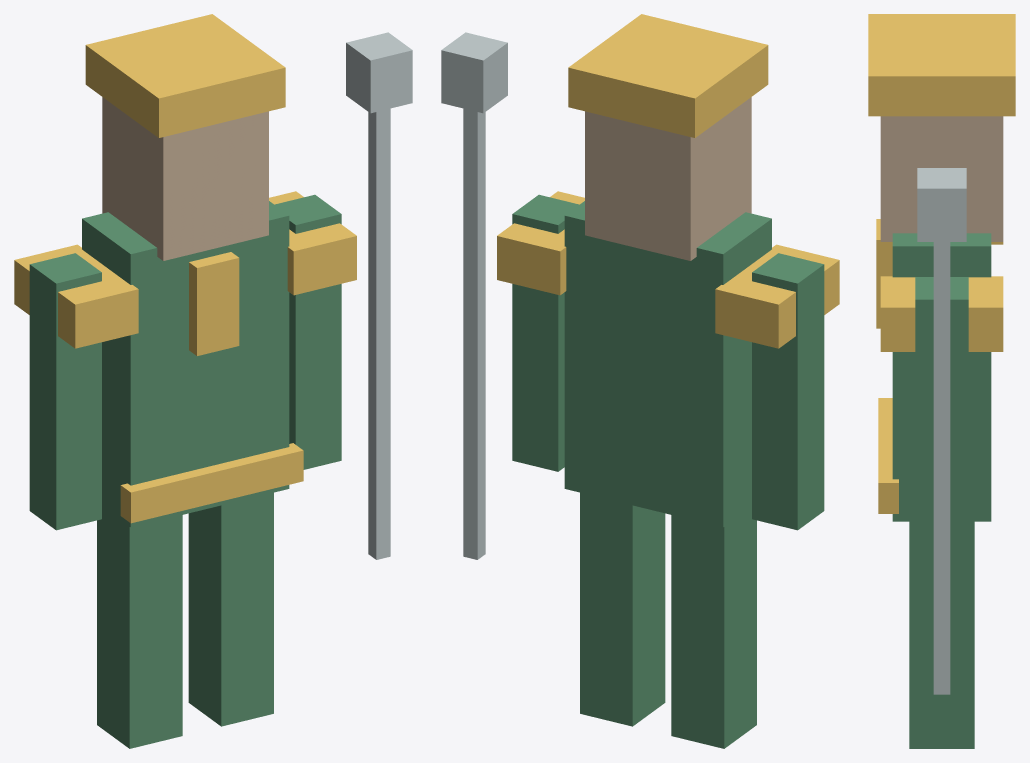
File: 10_yara_tideforged_tactician_under.glb
3 views of the same model, side by side, from view 1: azimuth 30°, elevation 25°; view 2: azimuth 150°, elevation 25°; view 3: azimuth 270°, elevation 25° (orthographic).
Visible parts, largest first — view 1: Yara Tideforged, Tactician under; view 2: Yara Tideforged, Tactician under; view 3: Yara Tideforged, Tactician under.
Part boxes in pixels (<box>): Yara Tideforged, Tactician under: <box>14,14,412,748</box>; Yara Tideforged, Tactician under: <box>441,14,839,748</box>; Yara Tideforged, Tactician under: <box>868,14,1015,748</box>.
Size of the model in its own units: 0.9347 by 1.66 by 0.3315.
